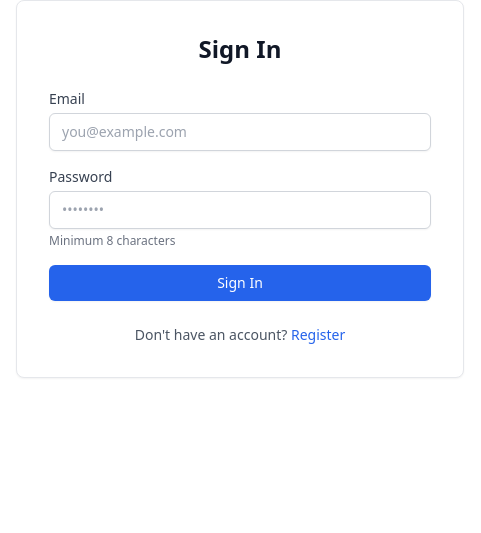
Test: AuthForm › error display › displays a general error when register fails
This screenshot has width=481, height=533.
Click the button with aria-label "switch to register form": coordinates (318, 335) 291,325 -> 345,345
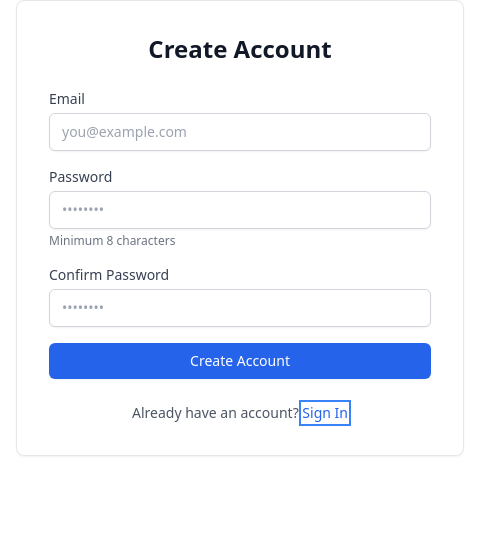
In the field labelled "Email": coordinates (240, 132) 49,113 -> 431,151, type "test@example.com"
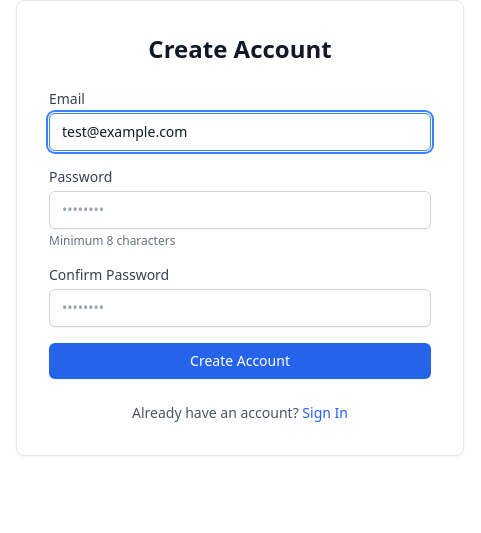
In the password field labelled "Password": coordinates (240, 210) 49,191 -> 431,229, type "password123"
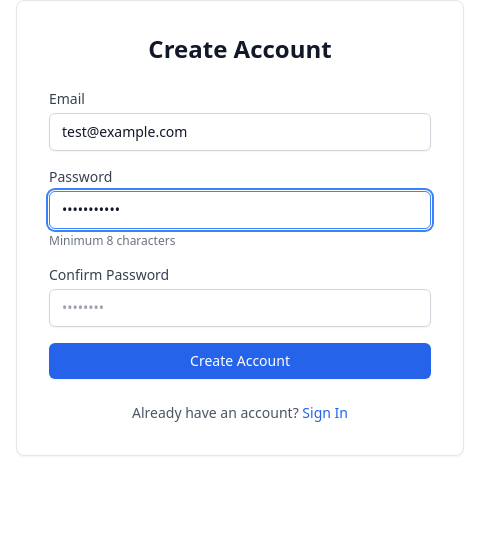
In the password field labelled "Confirm Password": coordinates (240, 308) 49,289 -> 431,327, type "password123"
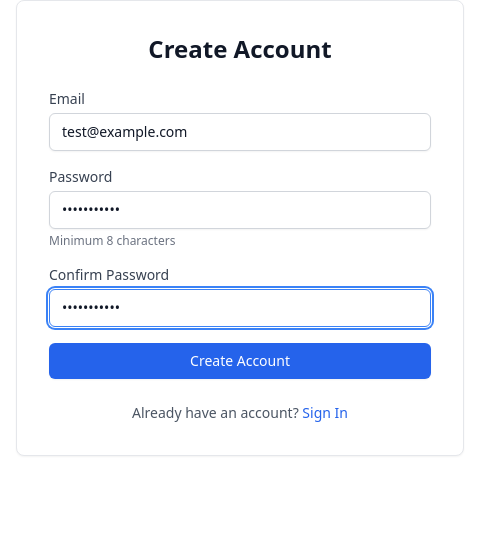
Click the button "Create Account": coordinates (240, 361) 49,343 -> 431,379
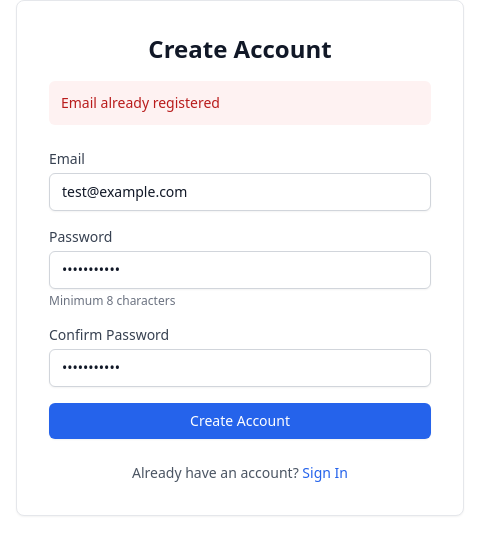
Expected: the text "Email already registered" is shown, 49,81 -> 431,125
